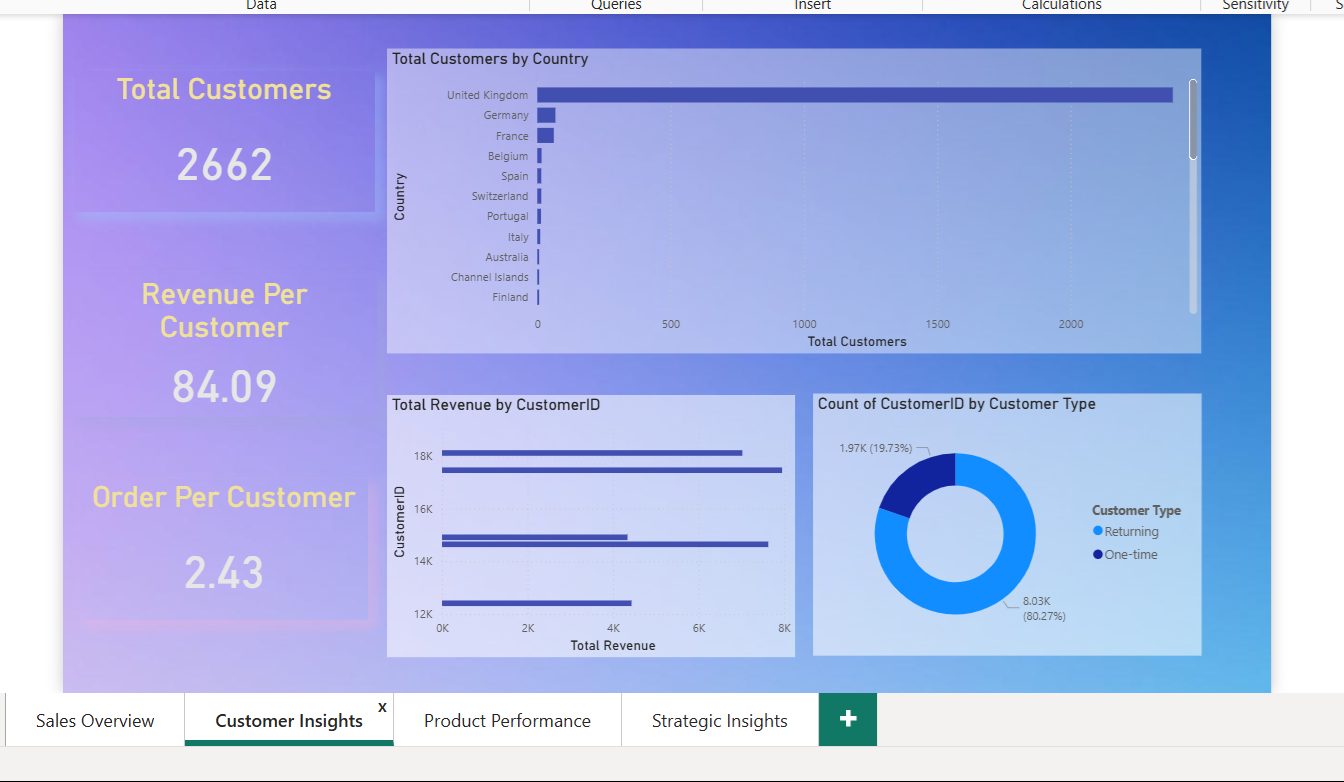

This screenshot's page, from the dashboard's own definition file:
{"tool":"powerbi","page":{"name":"Customer Insights","canvas":[1280,720],"ordinal":1},"visuals":[{"type":"card","title":"Total Customers","fields":{"Values":["customers_new.Total Customers"]},"box":[11.3,60.5,319.4,149.3],"z":0},{"type":"card","title":"Revenue Per Customer","fields":{"Values":["customers_new.Revenue per Customer"]},"box":[9.4,277.8,323.2,149.3],"z":1000},{"type":"card","title":"Order Per Customer","fields":{"Values":["customers_new.Orders per Customer"]},"box":[17,493.2,306.1,149.3],"z":2000},{"type":"barChart","fields":{"Category":["transformed_online_retail.CustomerID"],"Y":["transformed_online_retail.Total Revenue"]},"box":[343.9,404.4,432.8,277.8],"z":3000},{"type":"donutChart","fields":{"Category":["transformed_online_retail.Customer Type"],"Y":["CountNonNull(transformed_online_retail.CustomerID)"]},"box":[795.6,402.5,412,277.8],"z":4000},{"type":"barChart","fields":{"Category":["transformed_online_retail.Country"],"Y":["customers_new.Total Customers"]},"box":[343.9,35.9,863.6,323.2],"z":5000}]}

Visuals, with their boxes on the page's 1280x720 design canvas (x1, y1, x2, y2). These are canvas units, not pixel positions in the 1344x782 screenshot, which may show the page scaled, cropped or inside an application window:
"Total Customers" card: bbox=(11, 60, 331, 210)
"Revenue Per Customer" card: bbox=(9, 278, 333, 427)
"Order Per Customer" card: bbox=(17, 493, 323, 642)
barChart - transformed_online_retail.CustomerID x transformed_online_retail.Total Revenue: bbox=(344, 404, 777, 682)
donutChart - transformed_online_retail.Customer Type x CountNonNull(transformed_online_retail.CustomerID): bbox=(796, 402, 1208, 680)
barChart - transformed_online_retail.Country x customers_new.Total Customers: bbox=(344, 36, 1208, 359)
